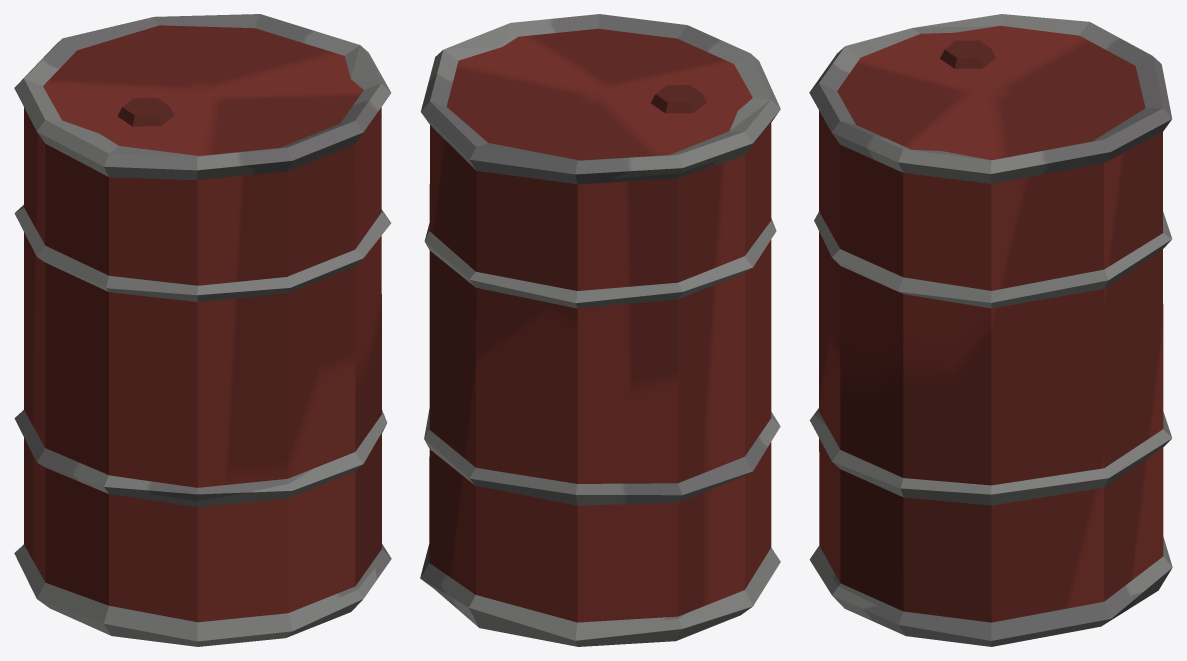
File: SM_Gen_Prop_Barrel_Metal_02.obj
The picture shows the model from 3 angles, left to right: view 1: azimuth 30°, elevation 25°; view 2: azimuth 150°, elevation 25°; view 3: azimuth 270°, elevation 25°; orthographic projection.
Visible parts, largest first — view 1: SM_Gen_Prop_Barrel_Metal_02_0; view 2: SM_Gen_Prop_Barrel_Metal_02_0; view 3: SM_Gen_Prop_Barrel_Metal_02_0.
Part boxes in pixels (x1,y1,x2,y2): SM_Gen_Prop_Barrel_Metal_02_0: [14, 14, 391, 646]; SM_Gen_Prop_Barrel_Metal_02_0: [420, 14, 780, 646]; SM_Gen_Prop_Barrel_Metal_02_0: [809, 14, 1172, 646].
Bounding box in the file's own units: 0.7261 × 1.05 × 0.7052.
Materials: 1 (1 with a texture image).
